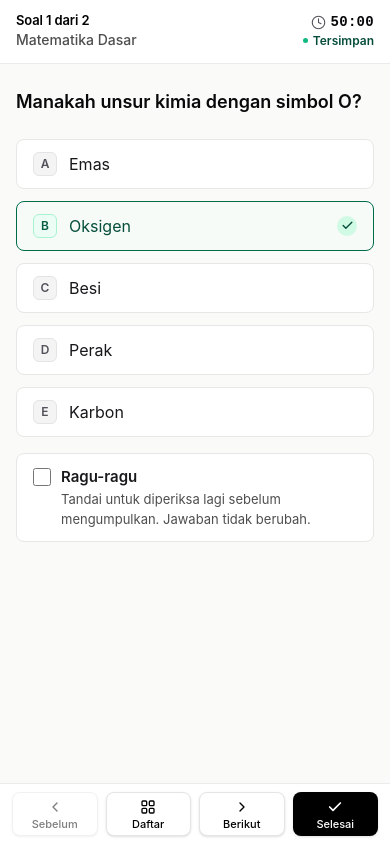
Test: BU-081 StudentExamWorkstation Test Suite › 36. sheet question grid presents non-color-only state indicators for active, answered, and unresolved states
Expected: the text "Manakah unsur kimia dengan simbol O?" is shown, [16,88,362,114]
Open sheet
What coordinates should you click on to do the following:
click the button with aria-label "Daftar Soal"
I would click on:
 (148, 814)
Its box is [106,792,191,836].
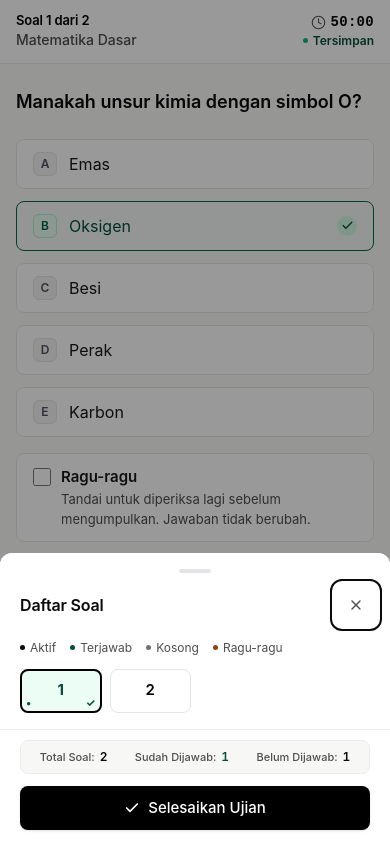
Expected: the button "Pindah ke soal nomor 2," does not show "✓"
Now the button named "Pindah ke soal nomor 1," shows "•", box [20,668,102,712]
Now the button named "Pindah ke soal nomor 1," shows "✓", box [20,668,102,712]
